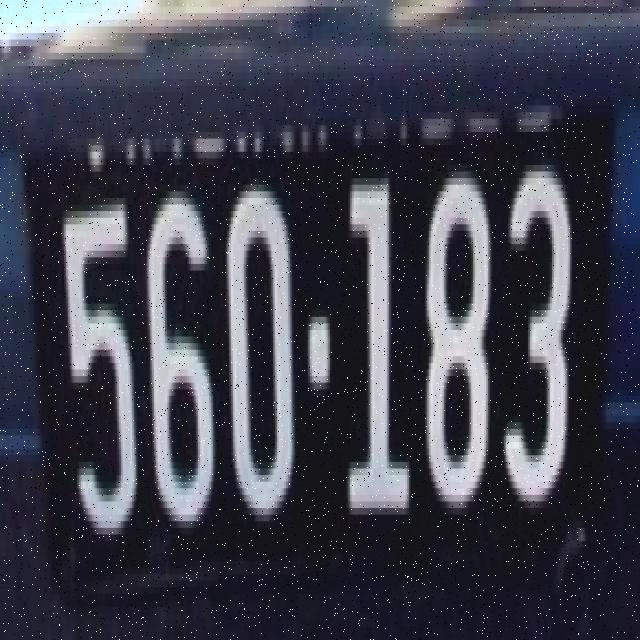licenseplate: (11, 26, 631, 640)
